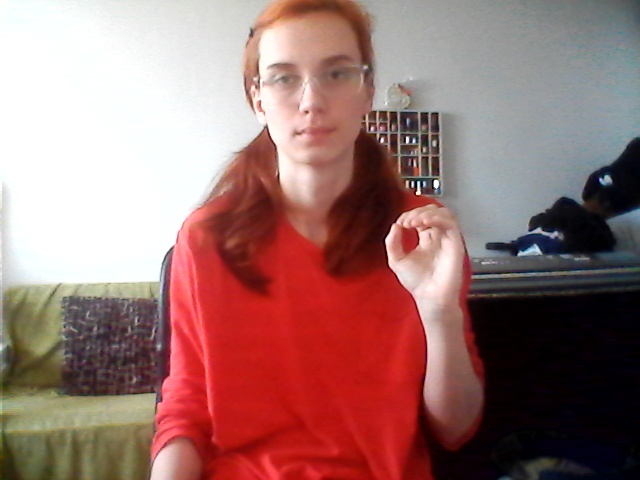o: (375, 201, 476, 311)
